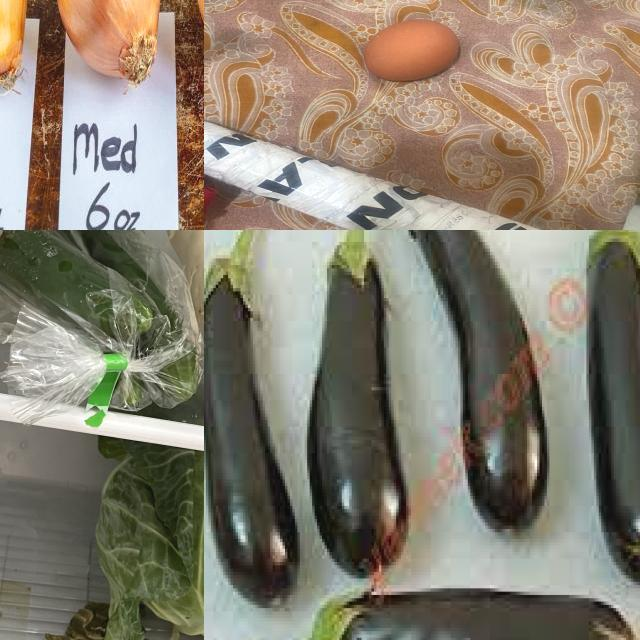cabbage: (58, 440, 205, 640)
egg: (364, 18, 462, 85)
eggplant: (392, 231, 542, 526), (305, 231, 409, 572), (205, 243, 295, 609), (582, 231, 640, 579), (313, 583, 640, 640)
onion: (55, 1, 164, 87)
